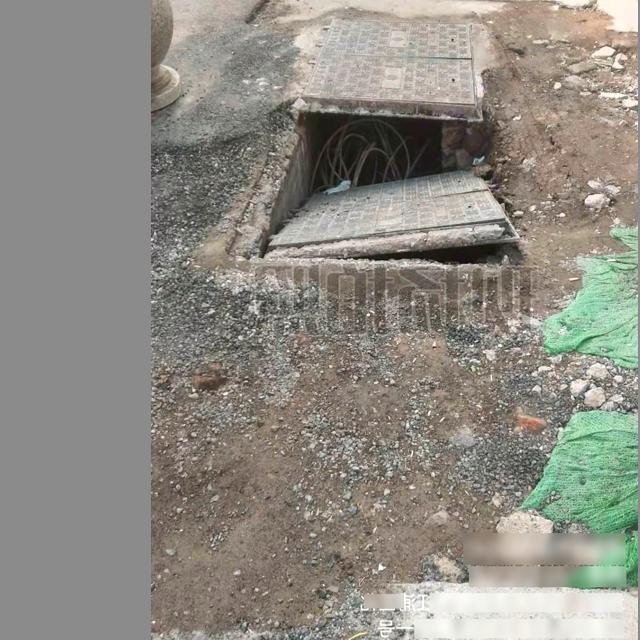uncovered: (226, 11, 522, 272)
